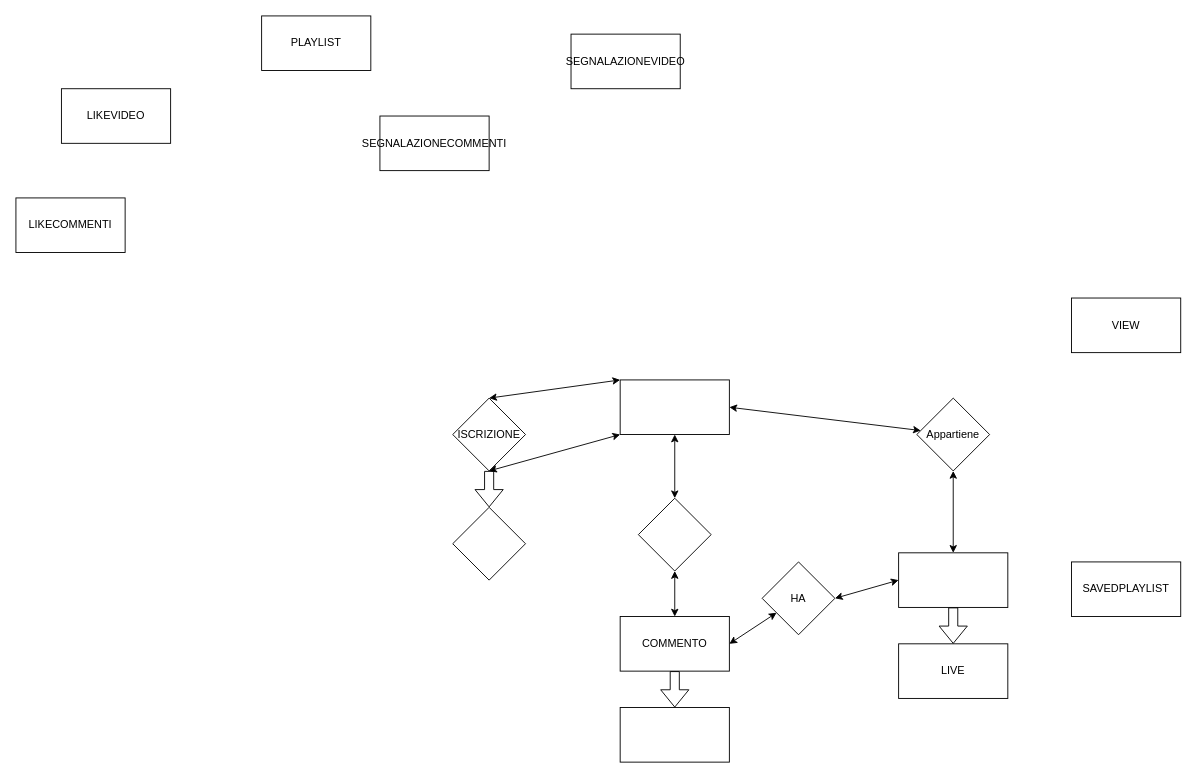
This 1197x778 diagram has some shape labels left out. The shapes that lost their labels are listed below. From the top down, each one's centre as x and y in pixels, then its label:
At (674,407): "ACCOUNT".
At (489,543): "ABBONAMENTO".
At (674,534): "FA".
At (953,579): "VIDEO".
At (674,734): "DONAZIONE".
